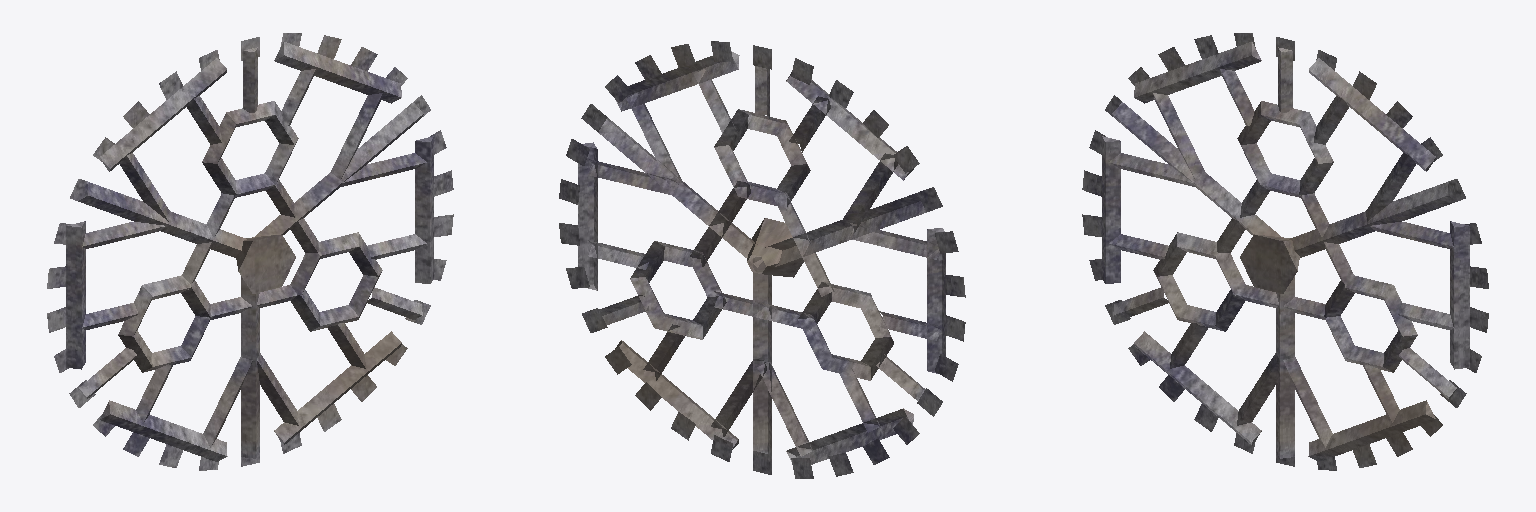
3 renders of one model, left to right at view 1: azimuth 30°, elevation 25°; view 2: azimuth 150°, elevation 25°; view 3: azimuth 330°, elevation 25°, orthographic.
Visible parts, largest first — view 1: Plane; view 2: Plane; view 3: Plane.
Boxes of the visible parts, x1,y1,x2,y2 form: Plane: [47, 33, 453, 470]; Plane: [559, 41, 965, 478]; Plane: [1082, 33, 1488, 470].
Size of the model in its own units: 5.16 by 5.17 by 0.5.
Materials: 1 (1 with a texture image).